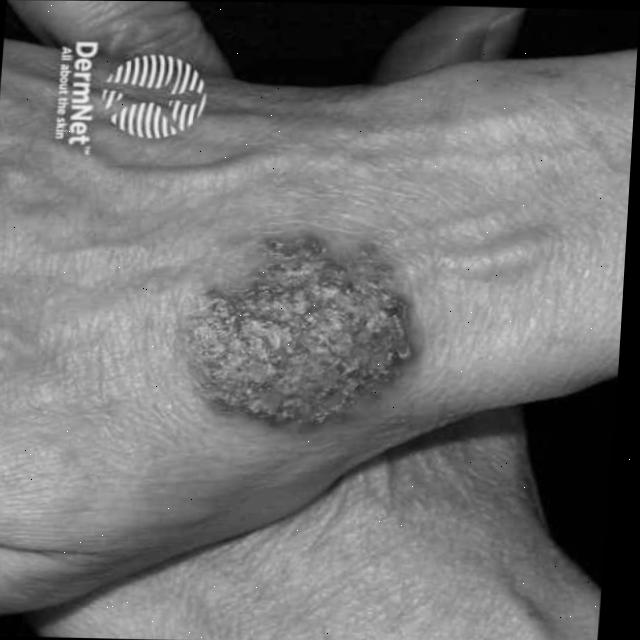Eczema: (196, 241, 410, 415)
